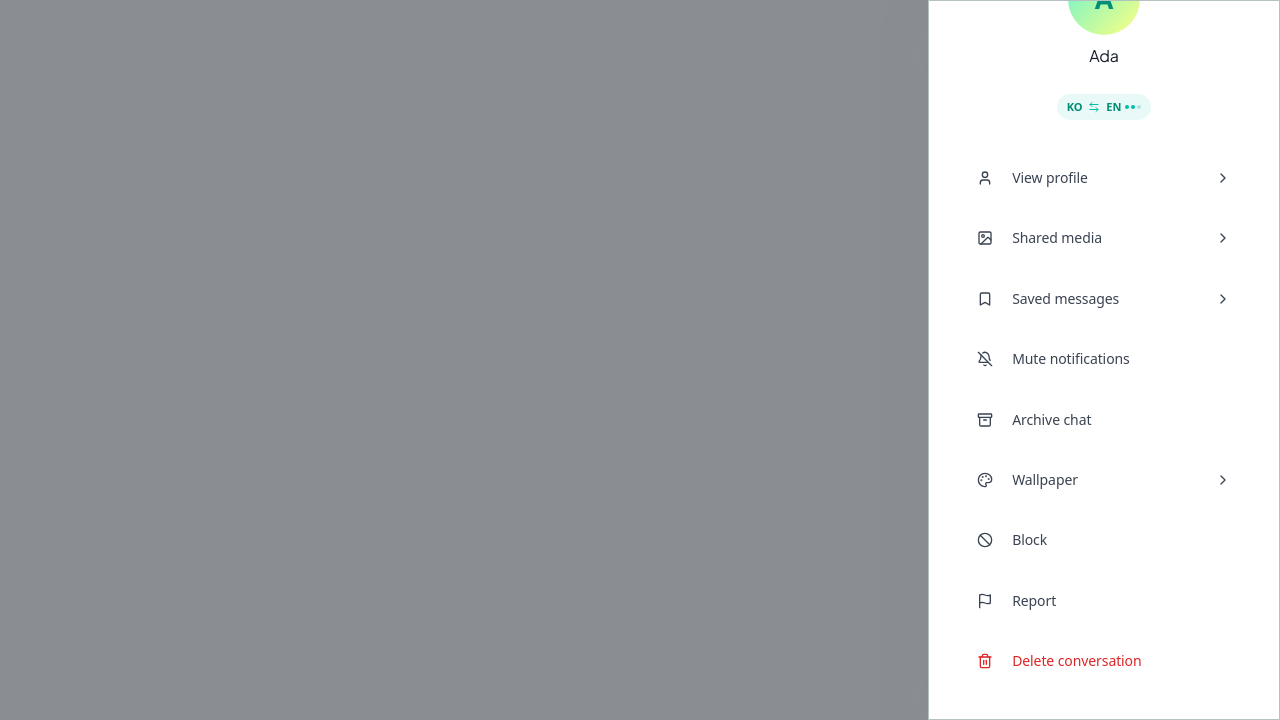
Scenario: report › keeps the form open and shows what the backend said when it is rejected
This screenshot has width=1280, height=720.
(page scrolled)
Click the button with test id "chat-info-report" at (1034, 600), box [958,572,1250,630]
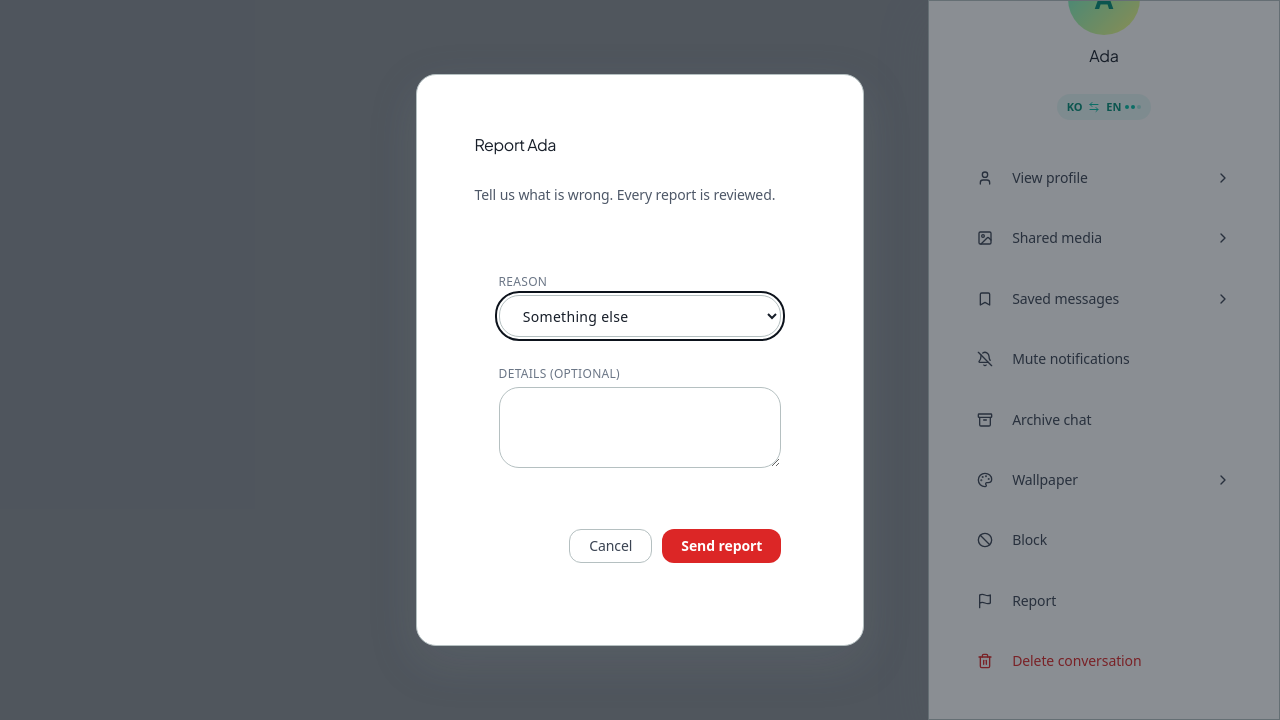
Submit the form with test id "chat-report-form", box [475,221,805,588]
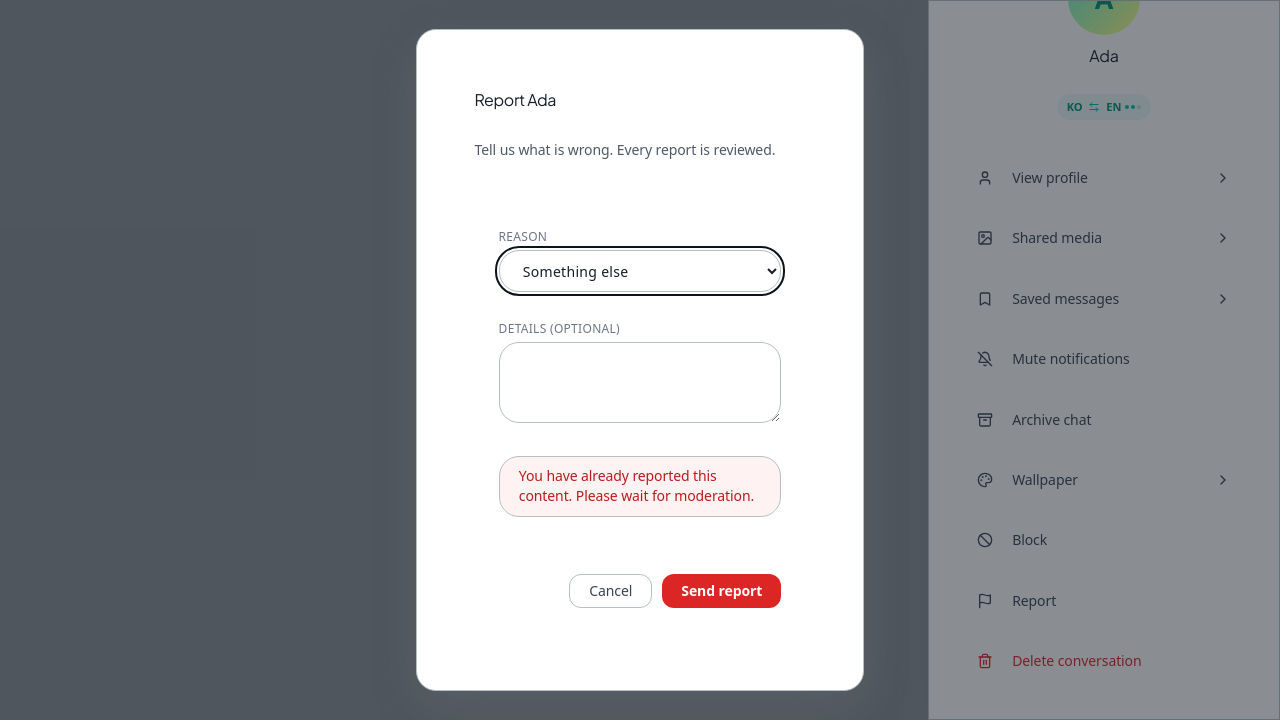
Expected: the form with test id "chat-report-form" is shown, [475,176,805,632]
Expected: the message with test id "chat-report-error" shows "You have already reported this content", [519,466,754,505]
